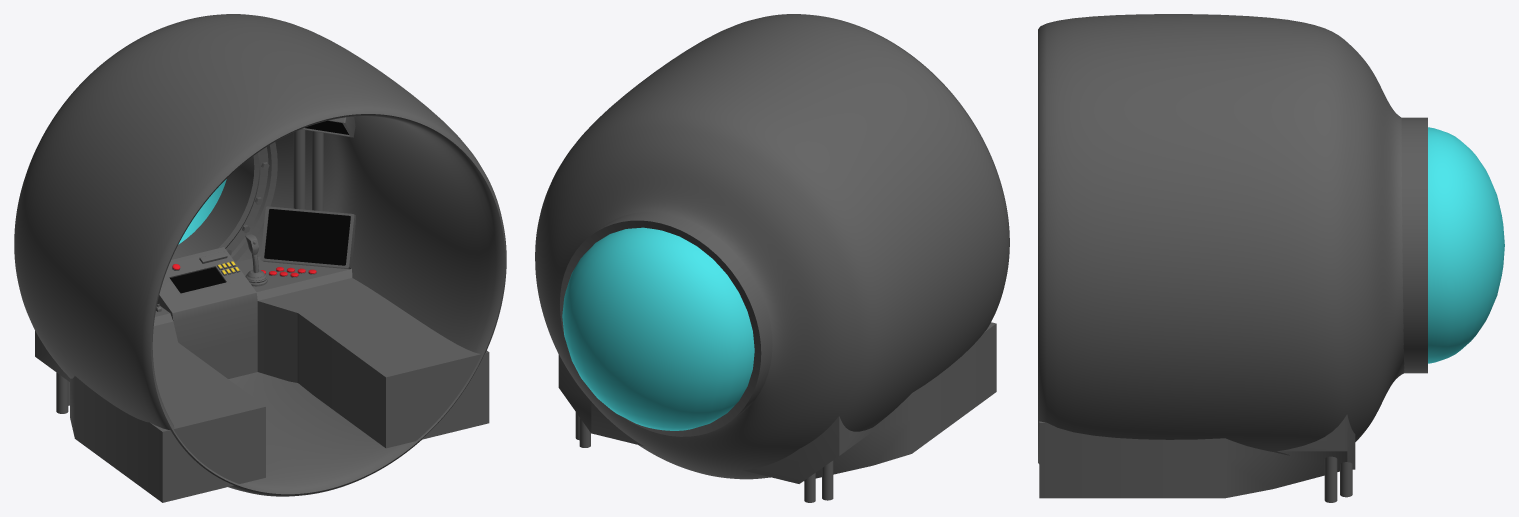
File: Submarine.fbx
3 views of the same model, side by side, from view 1: azimuth 30°, elevation 25°; view 2: azimuth 150°, elevation 25°; view 3: azimuth 270°, elevation 25° (orthographic). The views are drawn at different scales.
Parts seen in each view (by area): view 1: Sphere; view 2: Sphere; view 3: Sphere.
Boxes of the visible parts, left/top/right/bottom form: Sphere: left=14, top=14, right=506, bottom=502; Sphere: left=535, top=14, right=1009, bottom=502; Sphere: left=1038, top=14, right=1504, bottom=502.
Size of the model in its own units: 700 by 700 by 704.
